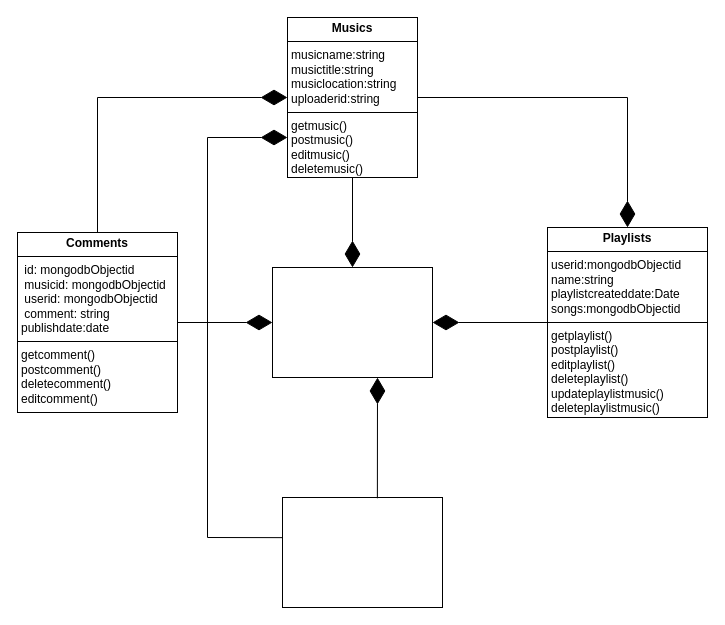
Image size: 725x625. Some labels were removed from this diagram. The shapes that lost their labels are listed below. From the top down, each one's centre as x and y in pixels, then its label:
At pixel 352 322: "Users uusername: String uemail:String upassword:String login()".
At pixel 362 552: "Likes userid: mongodbObjectid musicid: mongodbObjectid date: Date likemusic()".
